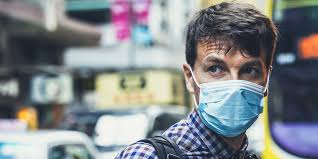with_mask: (188, 30, 272, 135)
